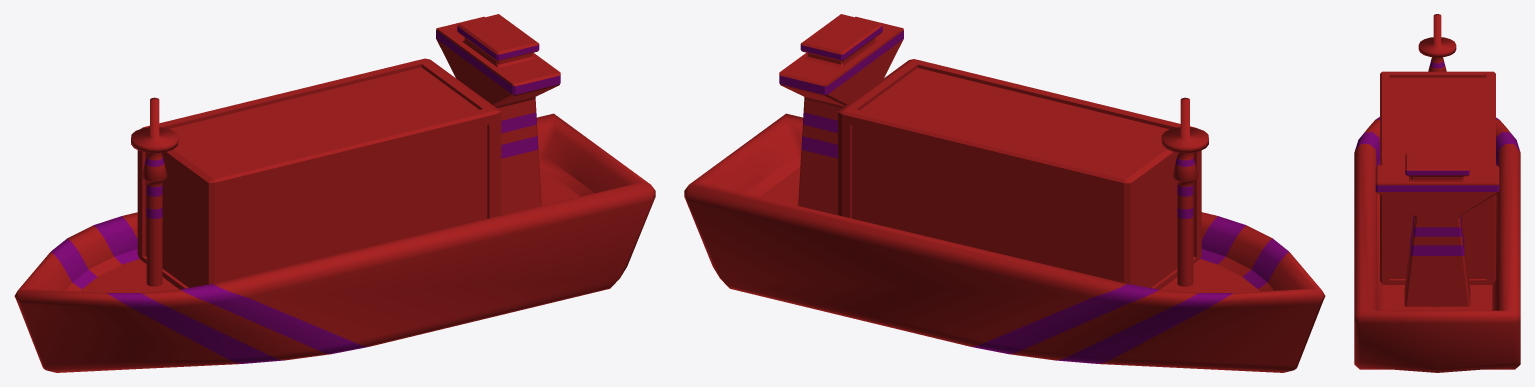
Rendered from ship2_greenContainer.fbx.
3 renders of one model, left to right at view 1: azimuth 30°, elevation 25°; view 2: azimuth 150°, elevation 25°; view 3: azimuth 270°, elevation 25°, orthographic. The views are drawn at different scales.
Visible parts, largest first — view 1: Cube.005; view 2: Cube.005; view 3: Cube.005.
Part boxes in pixels (x1=…): Cube.005: x1=14, y1=14, x2=655, y2=372; Cube.005: x1=684, y1=14, x2=1325, y2=372; Cube.005: x1=1354, y1=14, x2=1520, y2=372.
Size of the model in its own units: 2432 by 994 by 754.
